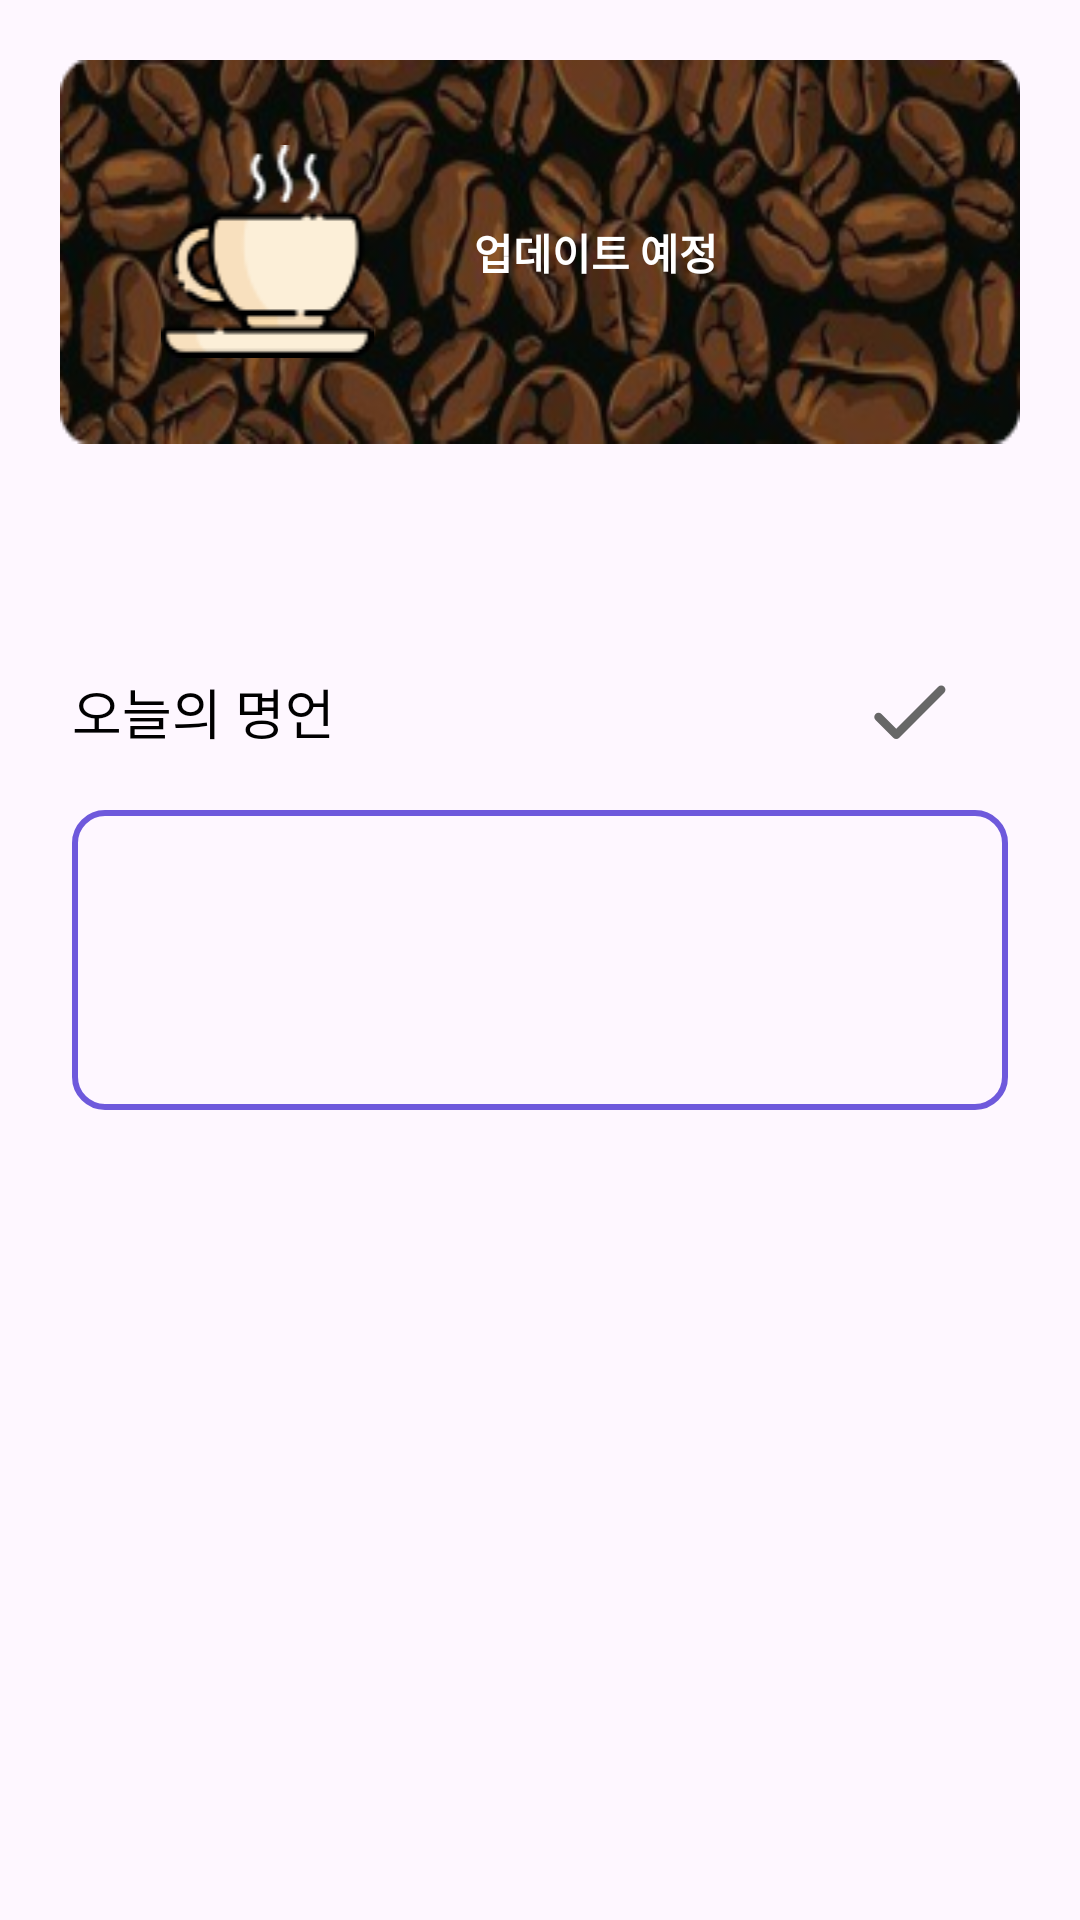

Icons on this 1080w x 1920h Android screen, each with its box as (x1, y1, x2, y2):
check not: (874, 685, 946, 739)
